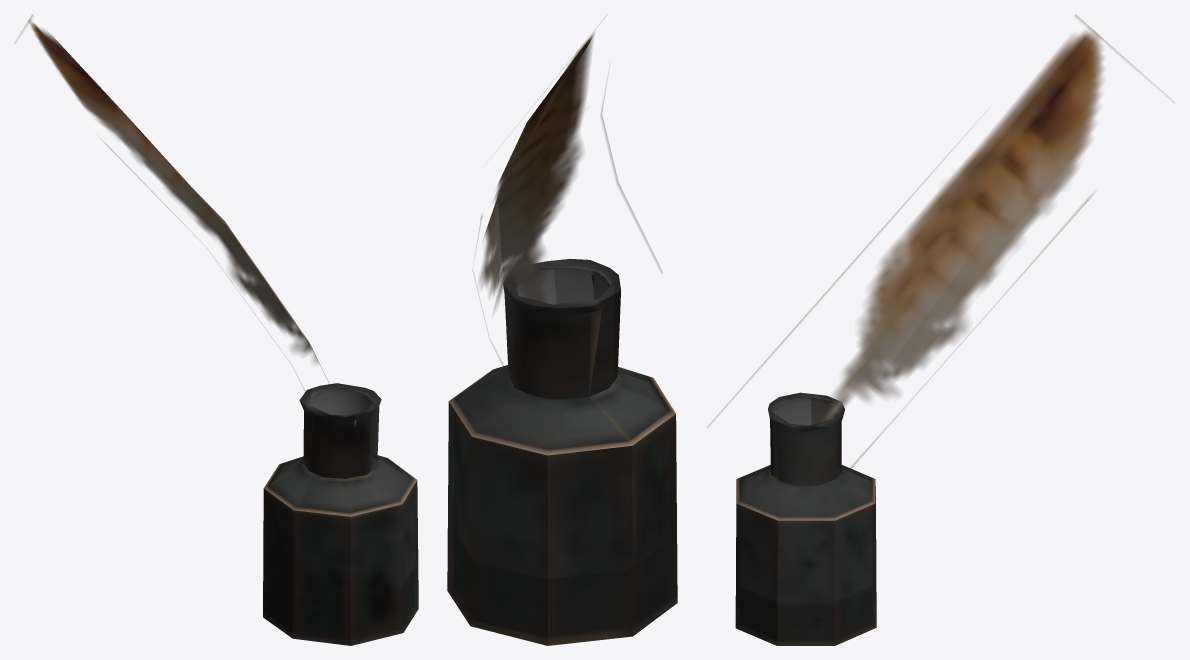
The model's file is ink-bottle-quill.lod1.glb.
The picture shows the model from 3 angles, left to right: view 1: azimuth 30°, elevation 25°; view 2: azimuth 150°, elevation 25°; view 3: azimuth 270°, elevation 25°; orthographic projection. The views are drawn at different scales.
Visible parts, largest first — view 1: ink-bottle-quill; view 2: ink-bottle-quill; view 3: ink-bottle-quill.
Part boxes in pixels (bbox=[...]): ink-bottle-quill: bbox=[16, 14, 418, 645]; ink-bottle-quill: bbox=[447, 14, 677, 645]; ink-bottle-quill: bbox=[707, 14, 1172, 645].
Bounding box in the file's own units: 0.0698 × 0.1545 × 0.1258.
1 material, 1 textured.
